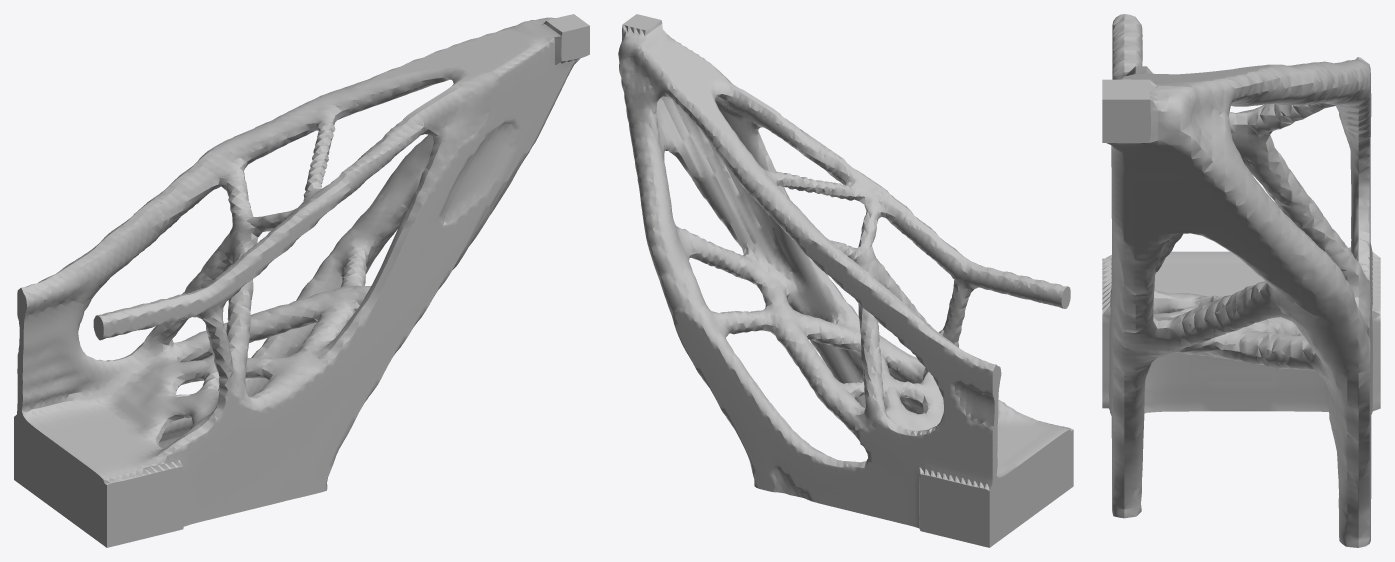
The model's file is drone_topology_optimization.glb.
3 views of the same model, side by side, from view 1: azimuth 30°, elevation 25°; view 2: azimuth 150°, elevation 25°; view 3: azimuth 270°, elevation 25° (orthographic). The views are drawn at different scales.
Bounding box in the file's own units: 0.15 × 0.12 × 0.05.
Materials: 1 (1 with a texture image).
